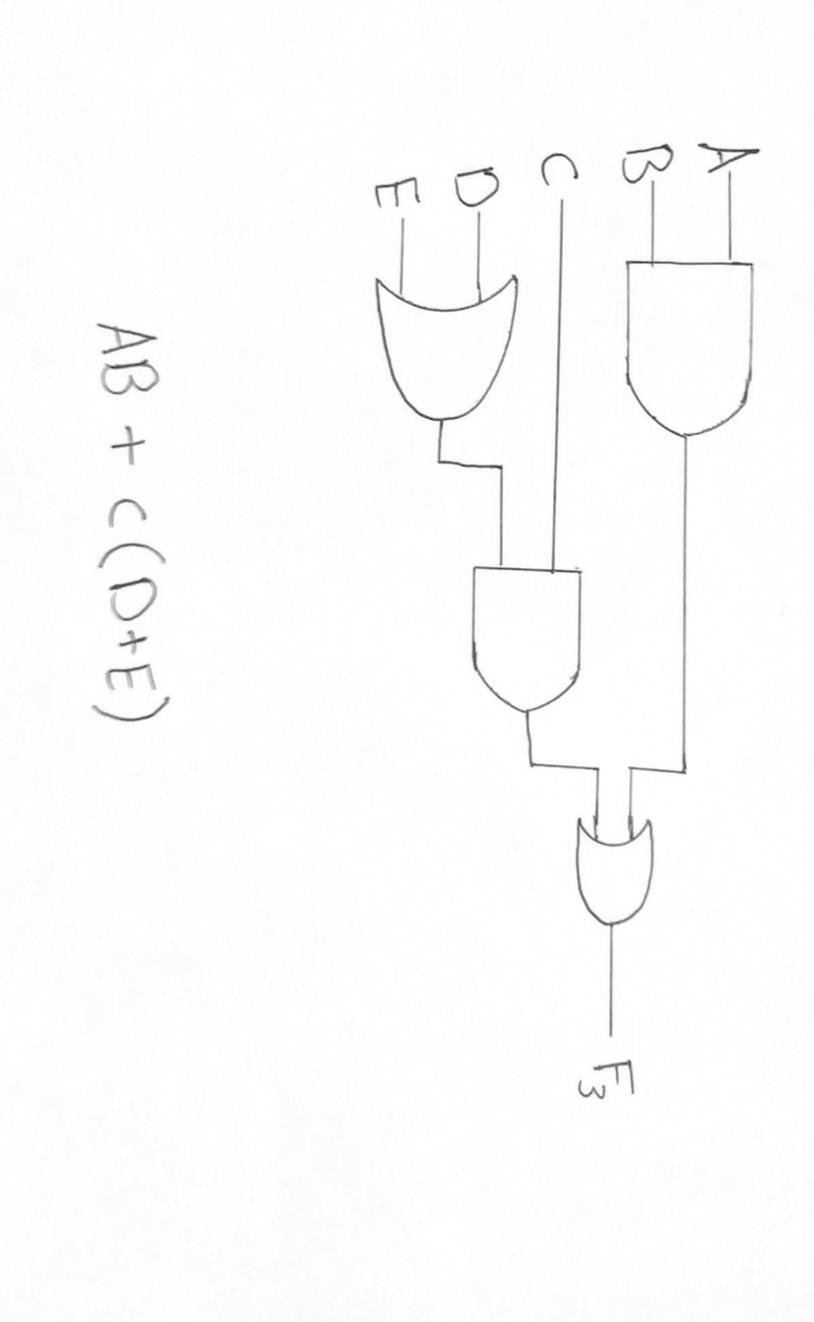AND: (612, 240, 788, 451), (440, 555, 607, 730)
OR: (353, 265, 533, 445), (550, 806, 686, 955)
